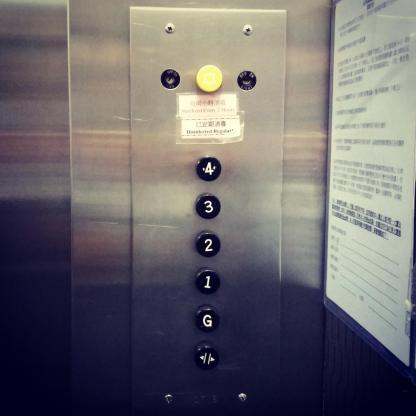1: (194, 268, 220, 294)
2: (195, 231, 221, 258)
3: (194, 194, 221, 219)
4: (195, 155, 222, 182)
G: (194, 304, 220, 332)
alarm: (196, 64, 223, 92)
keyhole: (160, 69, 181, 89), (237, 70, 256, 92)
open: (194, 342, 219, 370)
